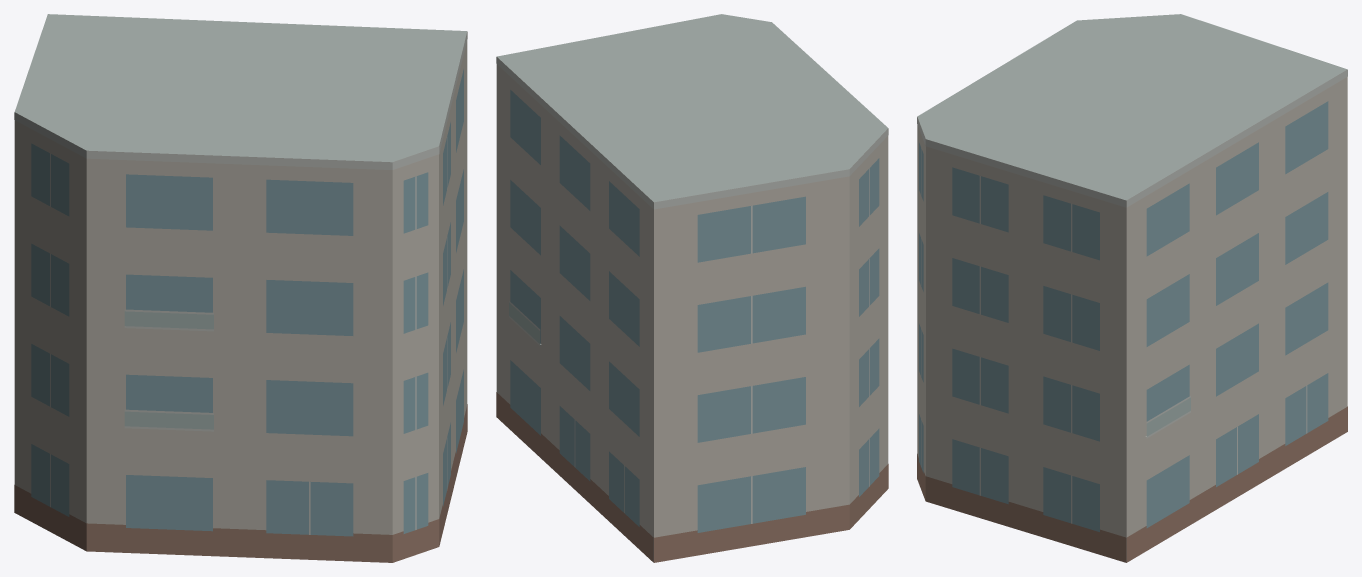
The model's file is survey-upis-32774939.glb.
3 renders of one model, left to right at view 1: azimuth 30°, elevation 25°; view 2: azimuth 150°, elevation 25°; view 3: azimuth 270°, elevation 25°, orthographic. The views are drawn at different scales.
Parts seen in each view (by area): view 1: survey-upis-32774939.tmp; view 2: survey-upis-32774939.tmp; view 3: survey-upis-32774939.tmp.
Part boxes in pixels (x1,y1,x2,y2): survey-upis-32774939.tmp: (14,14,467,562); survey-upis-32774939.tmp: (496,14,888,562); survey-upis-32774939.tmp: (917,14,1347,562).
Size of the model in its own units: 13.59 by 12.3 by 13.26.
